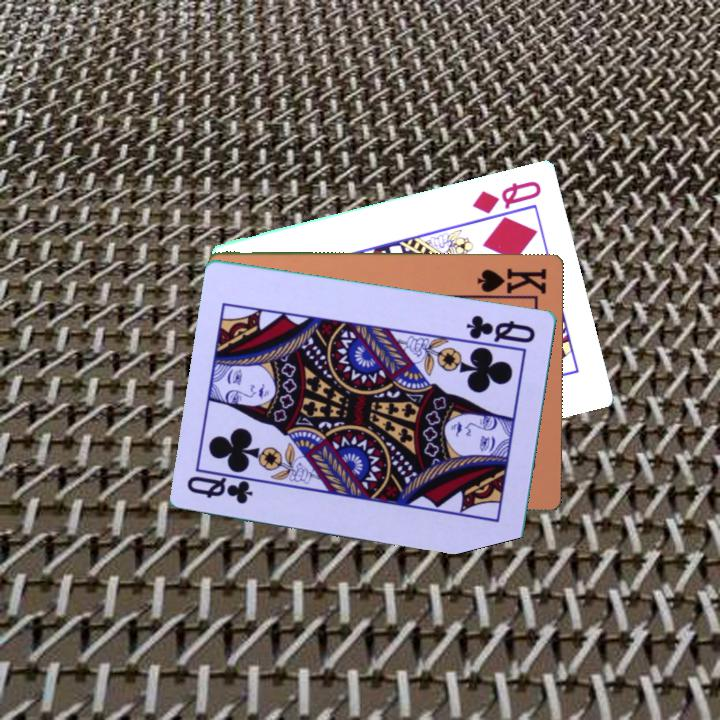Ks: (474, 263, 550, 297)
Qc: (458, 311, 539, 351), (184, 471, 257, 507)
Qd: (469, 177, 545, 223)
